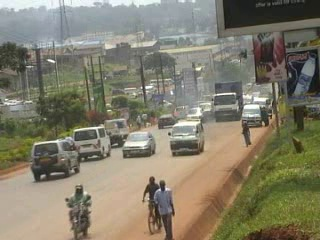Car: (28, 137, 81, 181), (120, 128, 156, 159), (155, 110, 179, 130), (185, 106, 206, 123), (196, 100, 213, 117)
Motorcycle: (63, 182, 95, 238)
